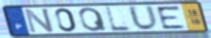0: (54, 7, 78, 33)
E: (154, 5, 188, 30)
L: (104, 6, 134, 32)
N: (23, 8, 56, 35)
Q: (78, 6, 109, 33)
U: (127, 4, 161, 32)
